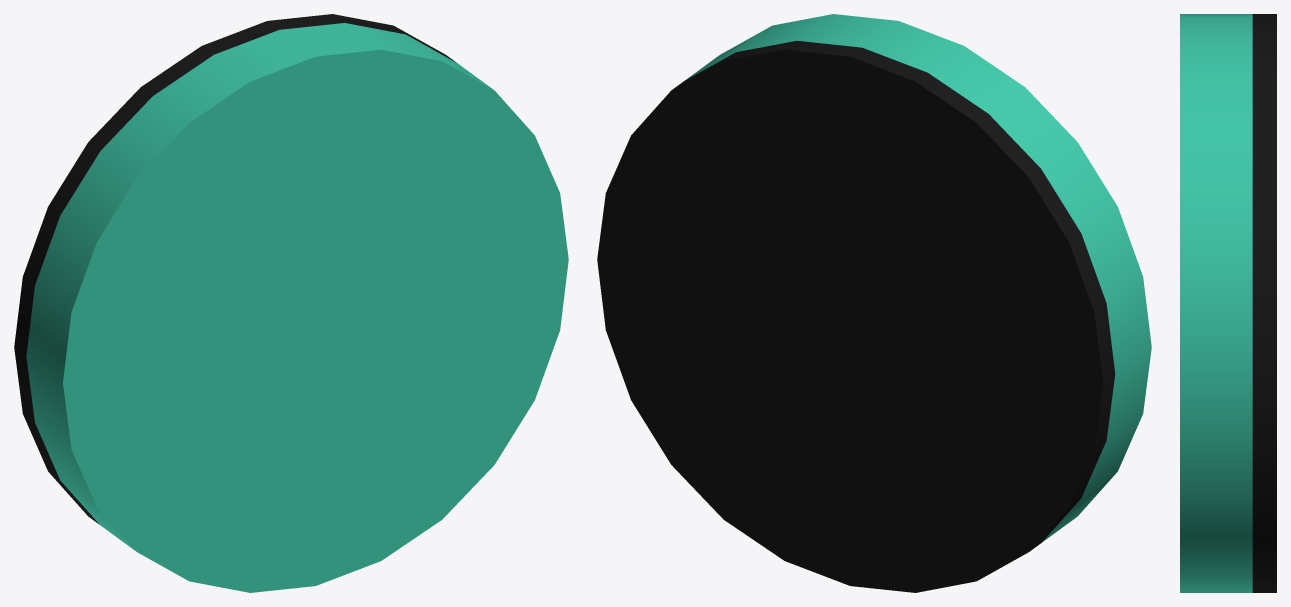
File: outrigger_l_foot.obj
3 renders of one model, left to right at view 1: azimuth 30°, elevation 25°; view 2: azimuth 150°, elevation 25°; view 3: azimuth 270°, elevation 25°, orthographic.
Visible parts, largest first — view 1: outrigger_l_foot; view 2: outrigger_l_foot; view 3: outrigger_l_foot.
Boxes of the visible parts, box(x1,y1,x2,y2) form: outrigger_l_foot: box(14, 14, 568, 592); outrigger_l_foot: box(597, 14, 1151, 592); outrigger_l_foot: box(1180, 14, 1276, 592).
Size of the model in its own units: 0.12 by 0.12 by 0.02.
